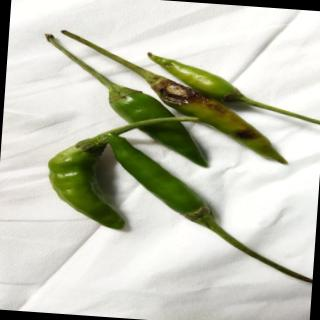Cabai Hijau: (99, 130, 226, 231), (37, 124, 141, 234)
